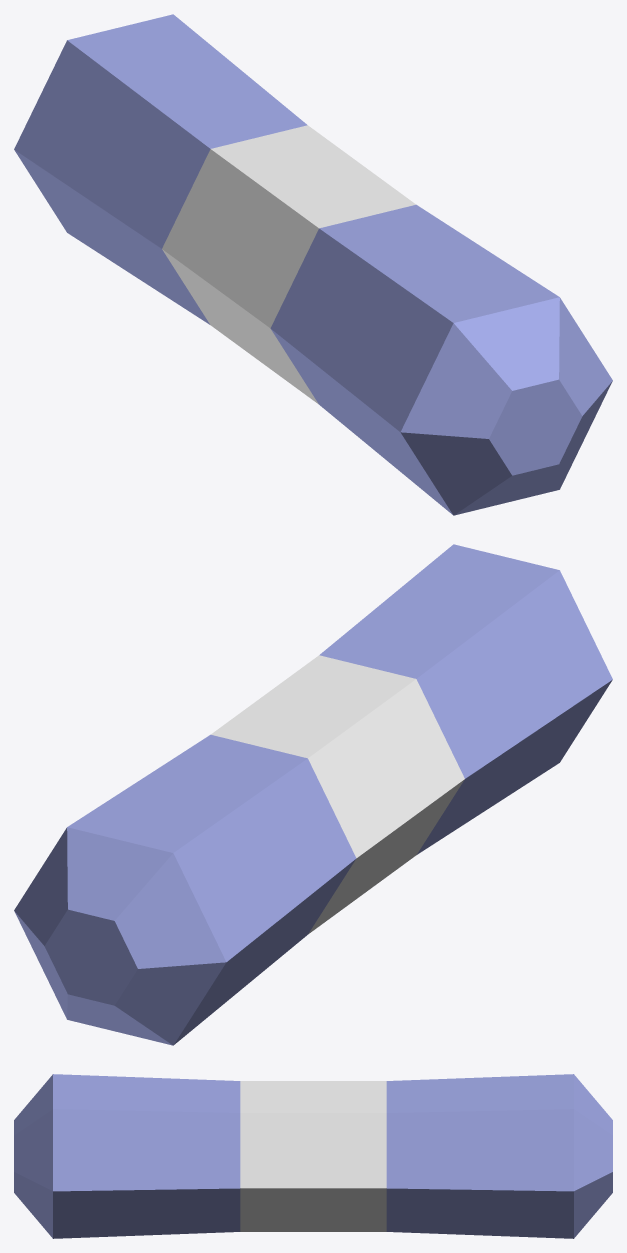
Rendered from SleepingBag.fbx.
3 renders of one model, top to bottom at view 1: azimuth 30°, elevation 25°; view 2: azimuth 150°, elevation 25°; view 3: azimuth 270°, elevation 25°, orthographic. The views are drawn at different scales.
Parts seen in each view (by area): view 1: SleepingBag; view 2: SleepingBag; view 3: SleepingBag.
Part boxes in pixels (left/top/right/bottom): SleepingBag: left=14, top=14, right=612, bottom=515; SleepingBag: left=14, top=544, right=612, bottom=1045; SleepingBag: left=14, top=1074, right=612, bottom=1238.
Size of the model in its own units: 0.1092 by 0.0946 by 0.3956.
